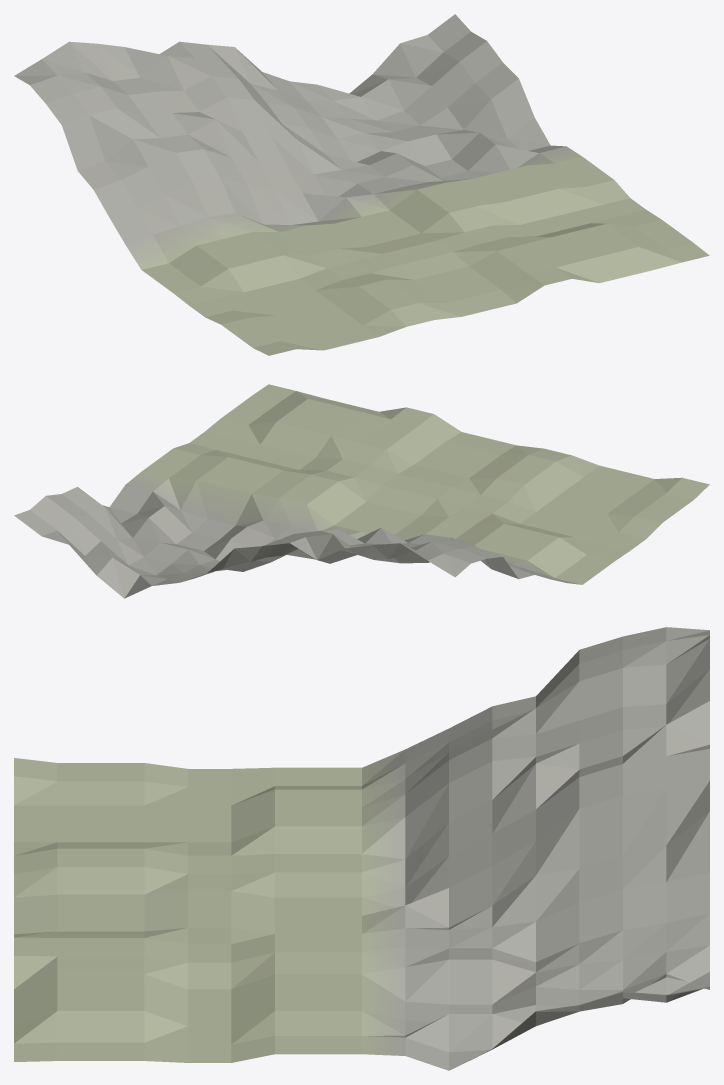
3 views of the same model, one above another, from view 1: azimuth 30°, elevation 25°; view 2: azimuth 150°, elevation 25°; view 3: azimuth 270°, elevation 25° (orthographic). The views are drawn at different scales.
Bounding box in the file's own units: 32 × 9.24 × 32.
